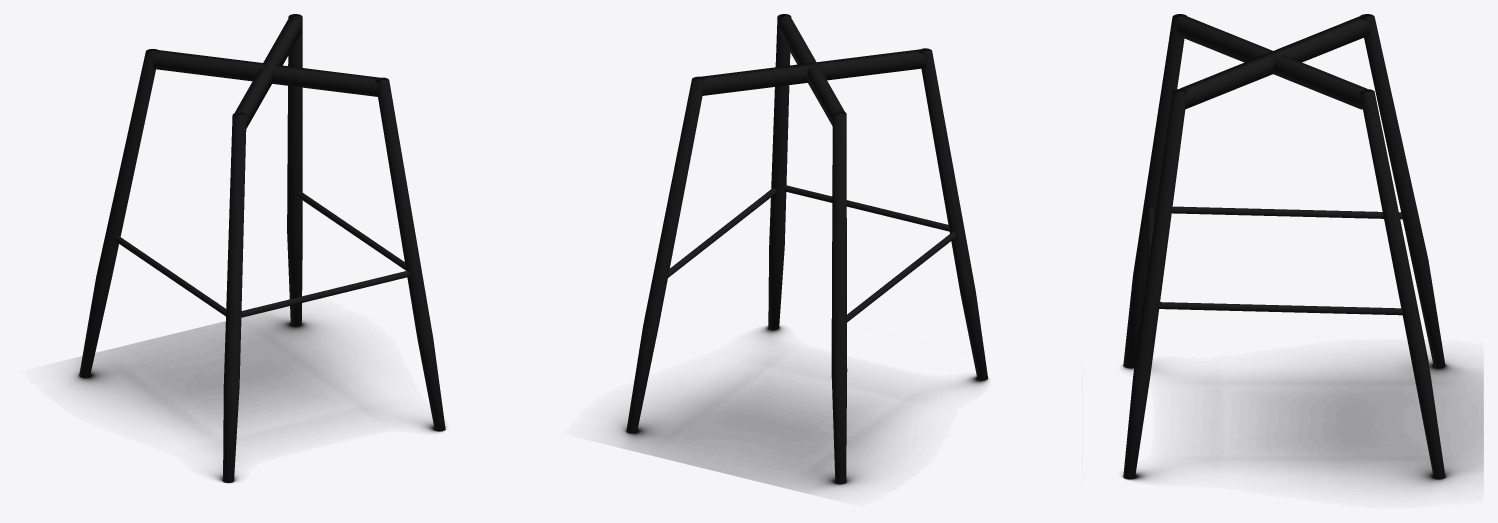
File: Hooker 65cm.glb
The picture shows the model from 3 angles, left to right: view 1: azimuth 30°, elevation 25°; view 2: azimuth 150°, elevation 25°; view 3: azimuth 270°, elevation 25°; orthographic projection. The views are drawn at different scales.
Parts seen in each view (by area): view 1: legs.015, Shadow_barowe65; view 2: legs.015, Shadow_barowe65; view 3: legs.015, Shadow_barowe65.
Boxes of the visible parts, box(x1,y1,x2,y2) form: legs.015: box(79, 14, 445, 482); Shadow_barowe65: box(68, 312, 446, 483); legs.015: box(626, 14, 987, 483); Shadow_barowe65: box(613, 326, 988, 493); legs.015: box(1123, 14, 1445, 478); Shadow_barowe65: box(1122, 355, 1483, 488).
Bounding box in the file's own units: 0.6461 × 0.6504 × 0.6461.
Materials: 2 (1 with a texture image).
